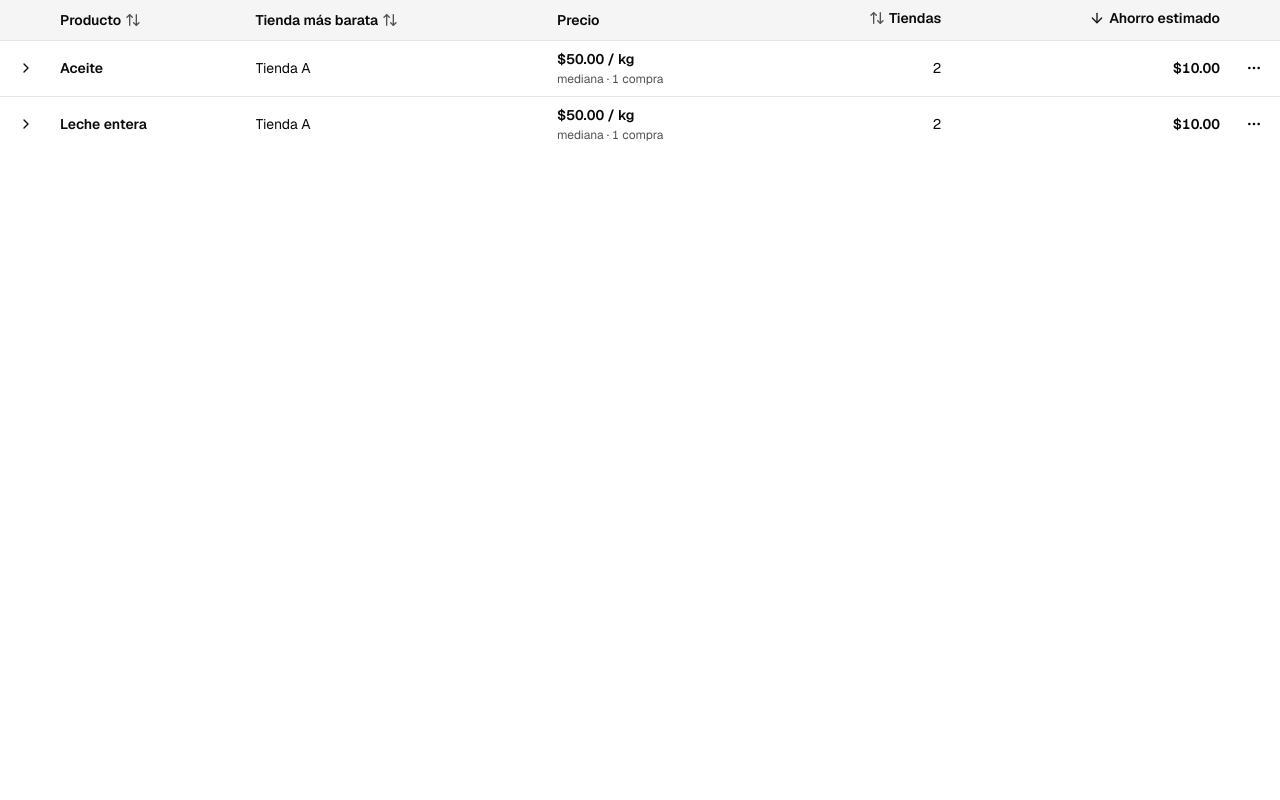
Test case: expander (D-07) › lets several rows stay open at once
This screenshot has width=1280, height=800.
Click the button named "Ver precios de Leche entera" at [26, 124], box [8,106,44,142]
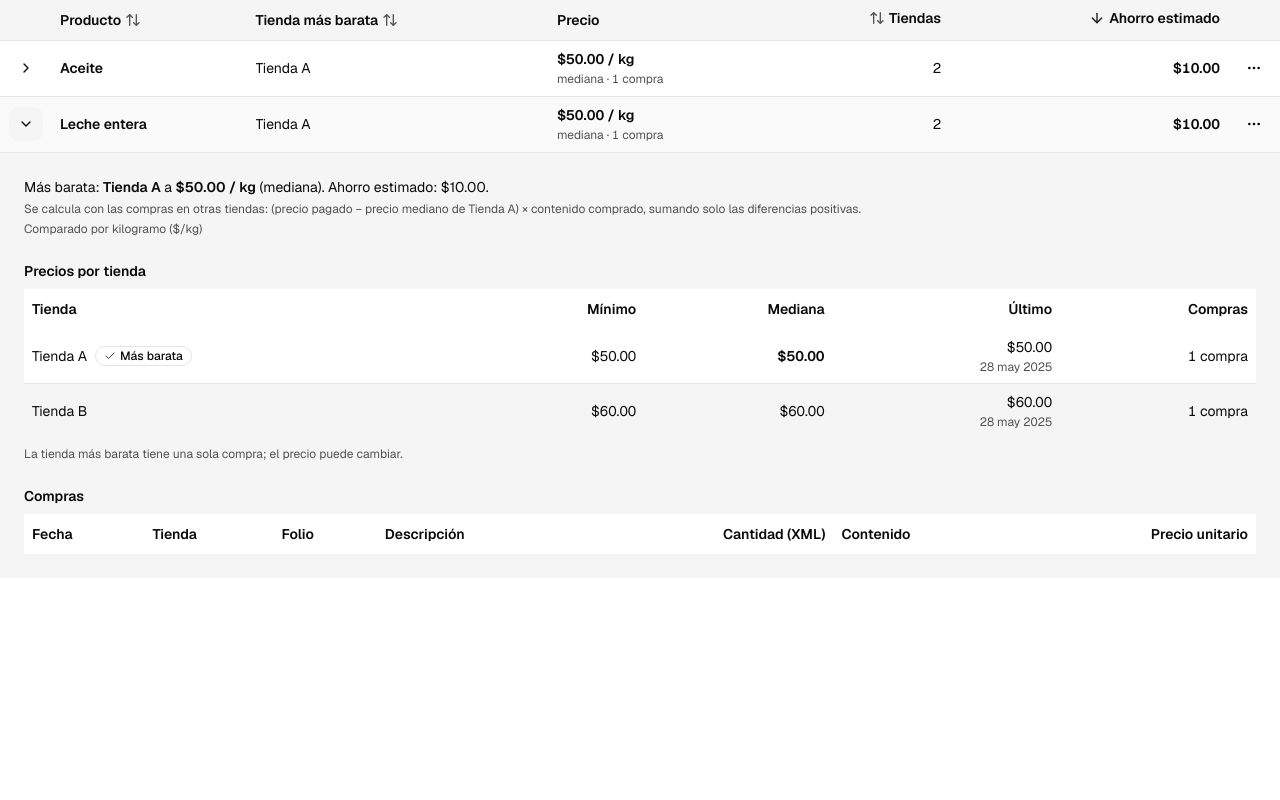
Click the button named "Ver precios de Aceite" at [26, 68], box [8,50,44,86]
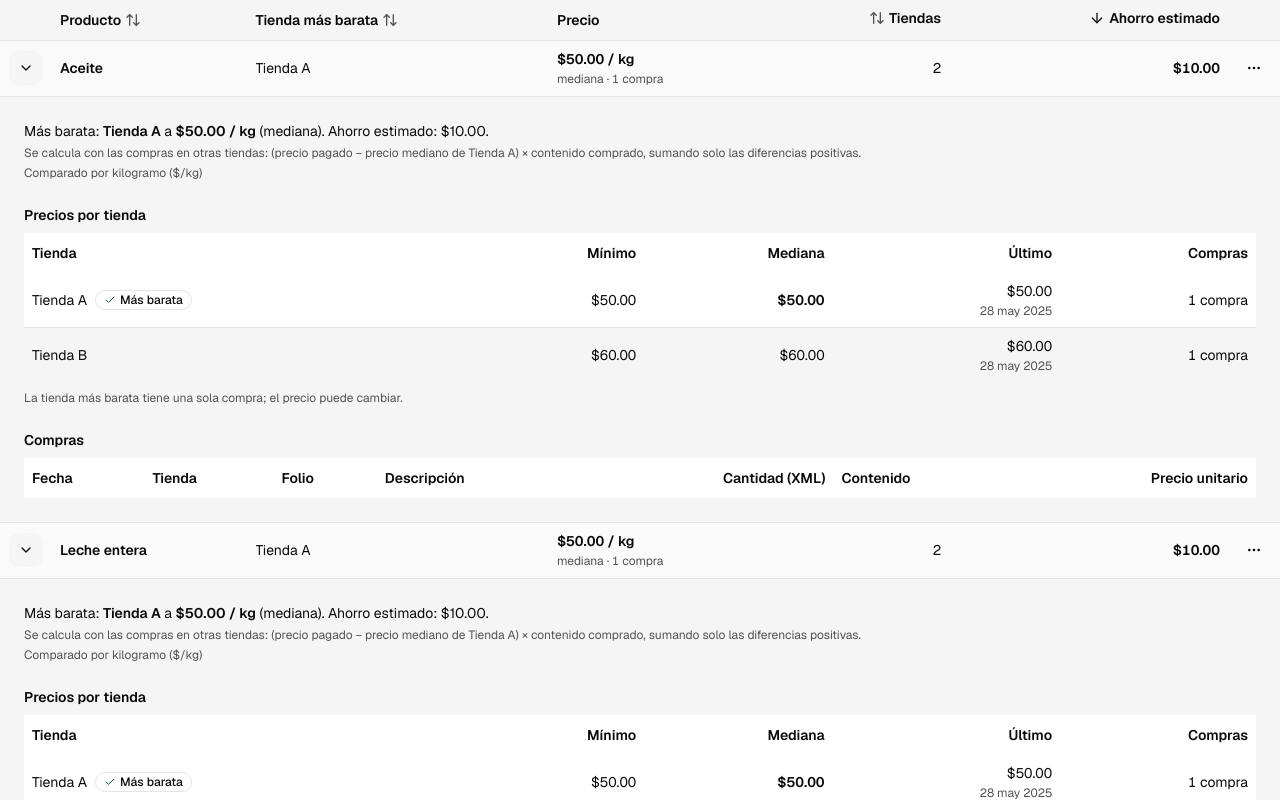
expect the button named "Ocultar precios de Leche entera" is shown: met, box [8,532,44,568]
expect the number of headings "Precios por tienda" is 2: met, box [24,206,146,224]; [24,688,146,706]
expect the button named "Ocultar precios de Aceite" is shown: met, box [8,50,44,86]
